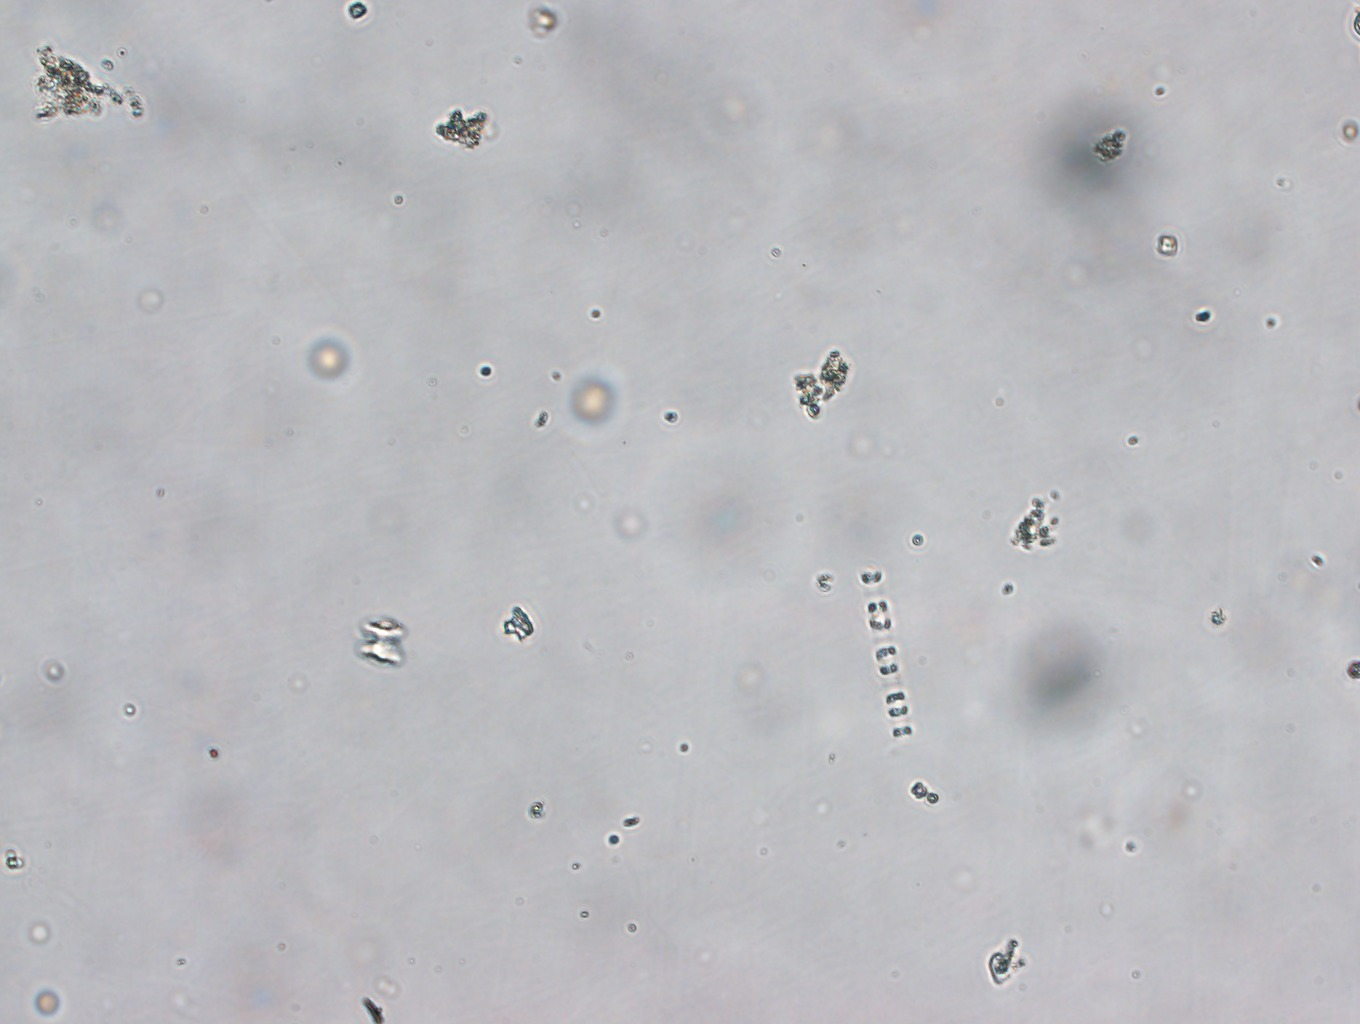skeletonema: (844, 556, 930, 753)
